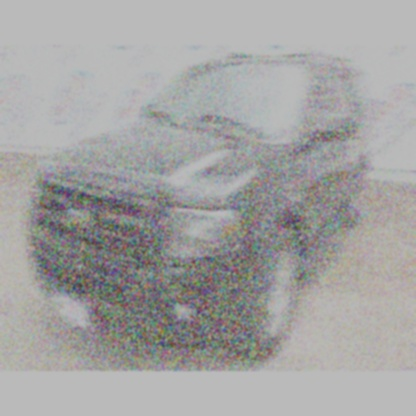Vehicle: (27, 53, 376, 364)
